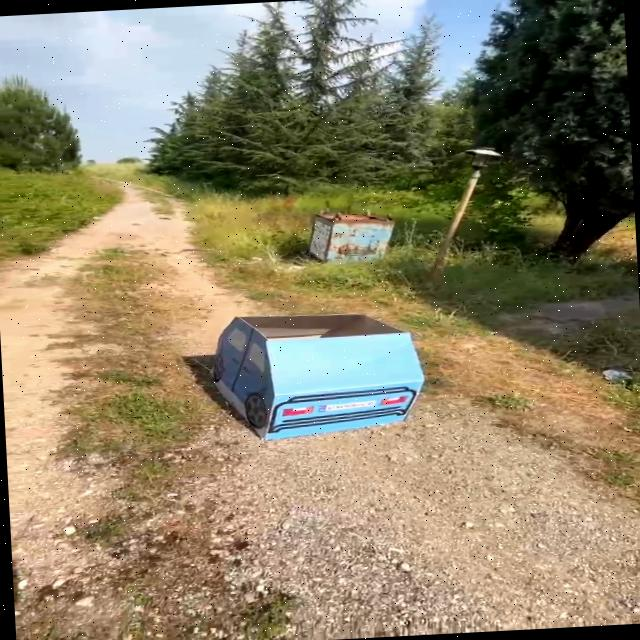blue_car: (181, 300, 446, 449)
